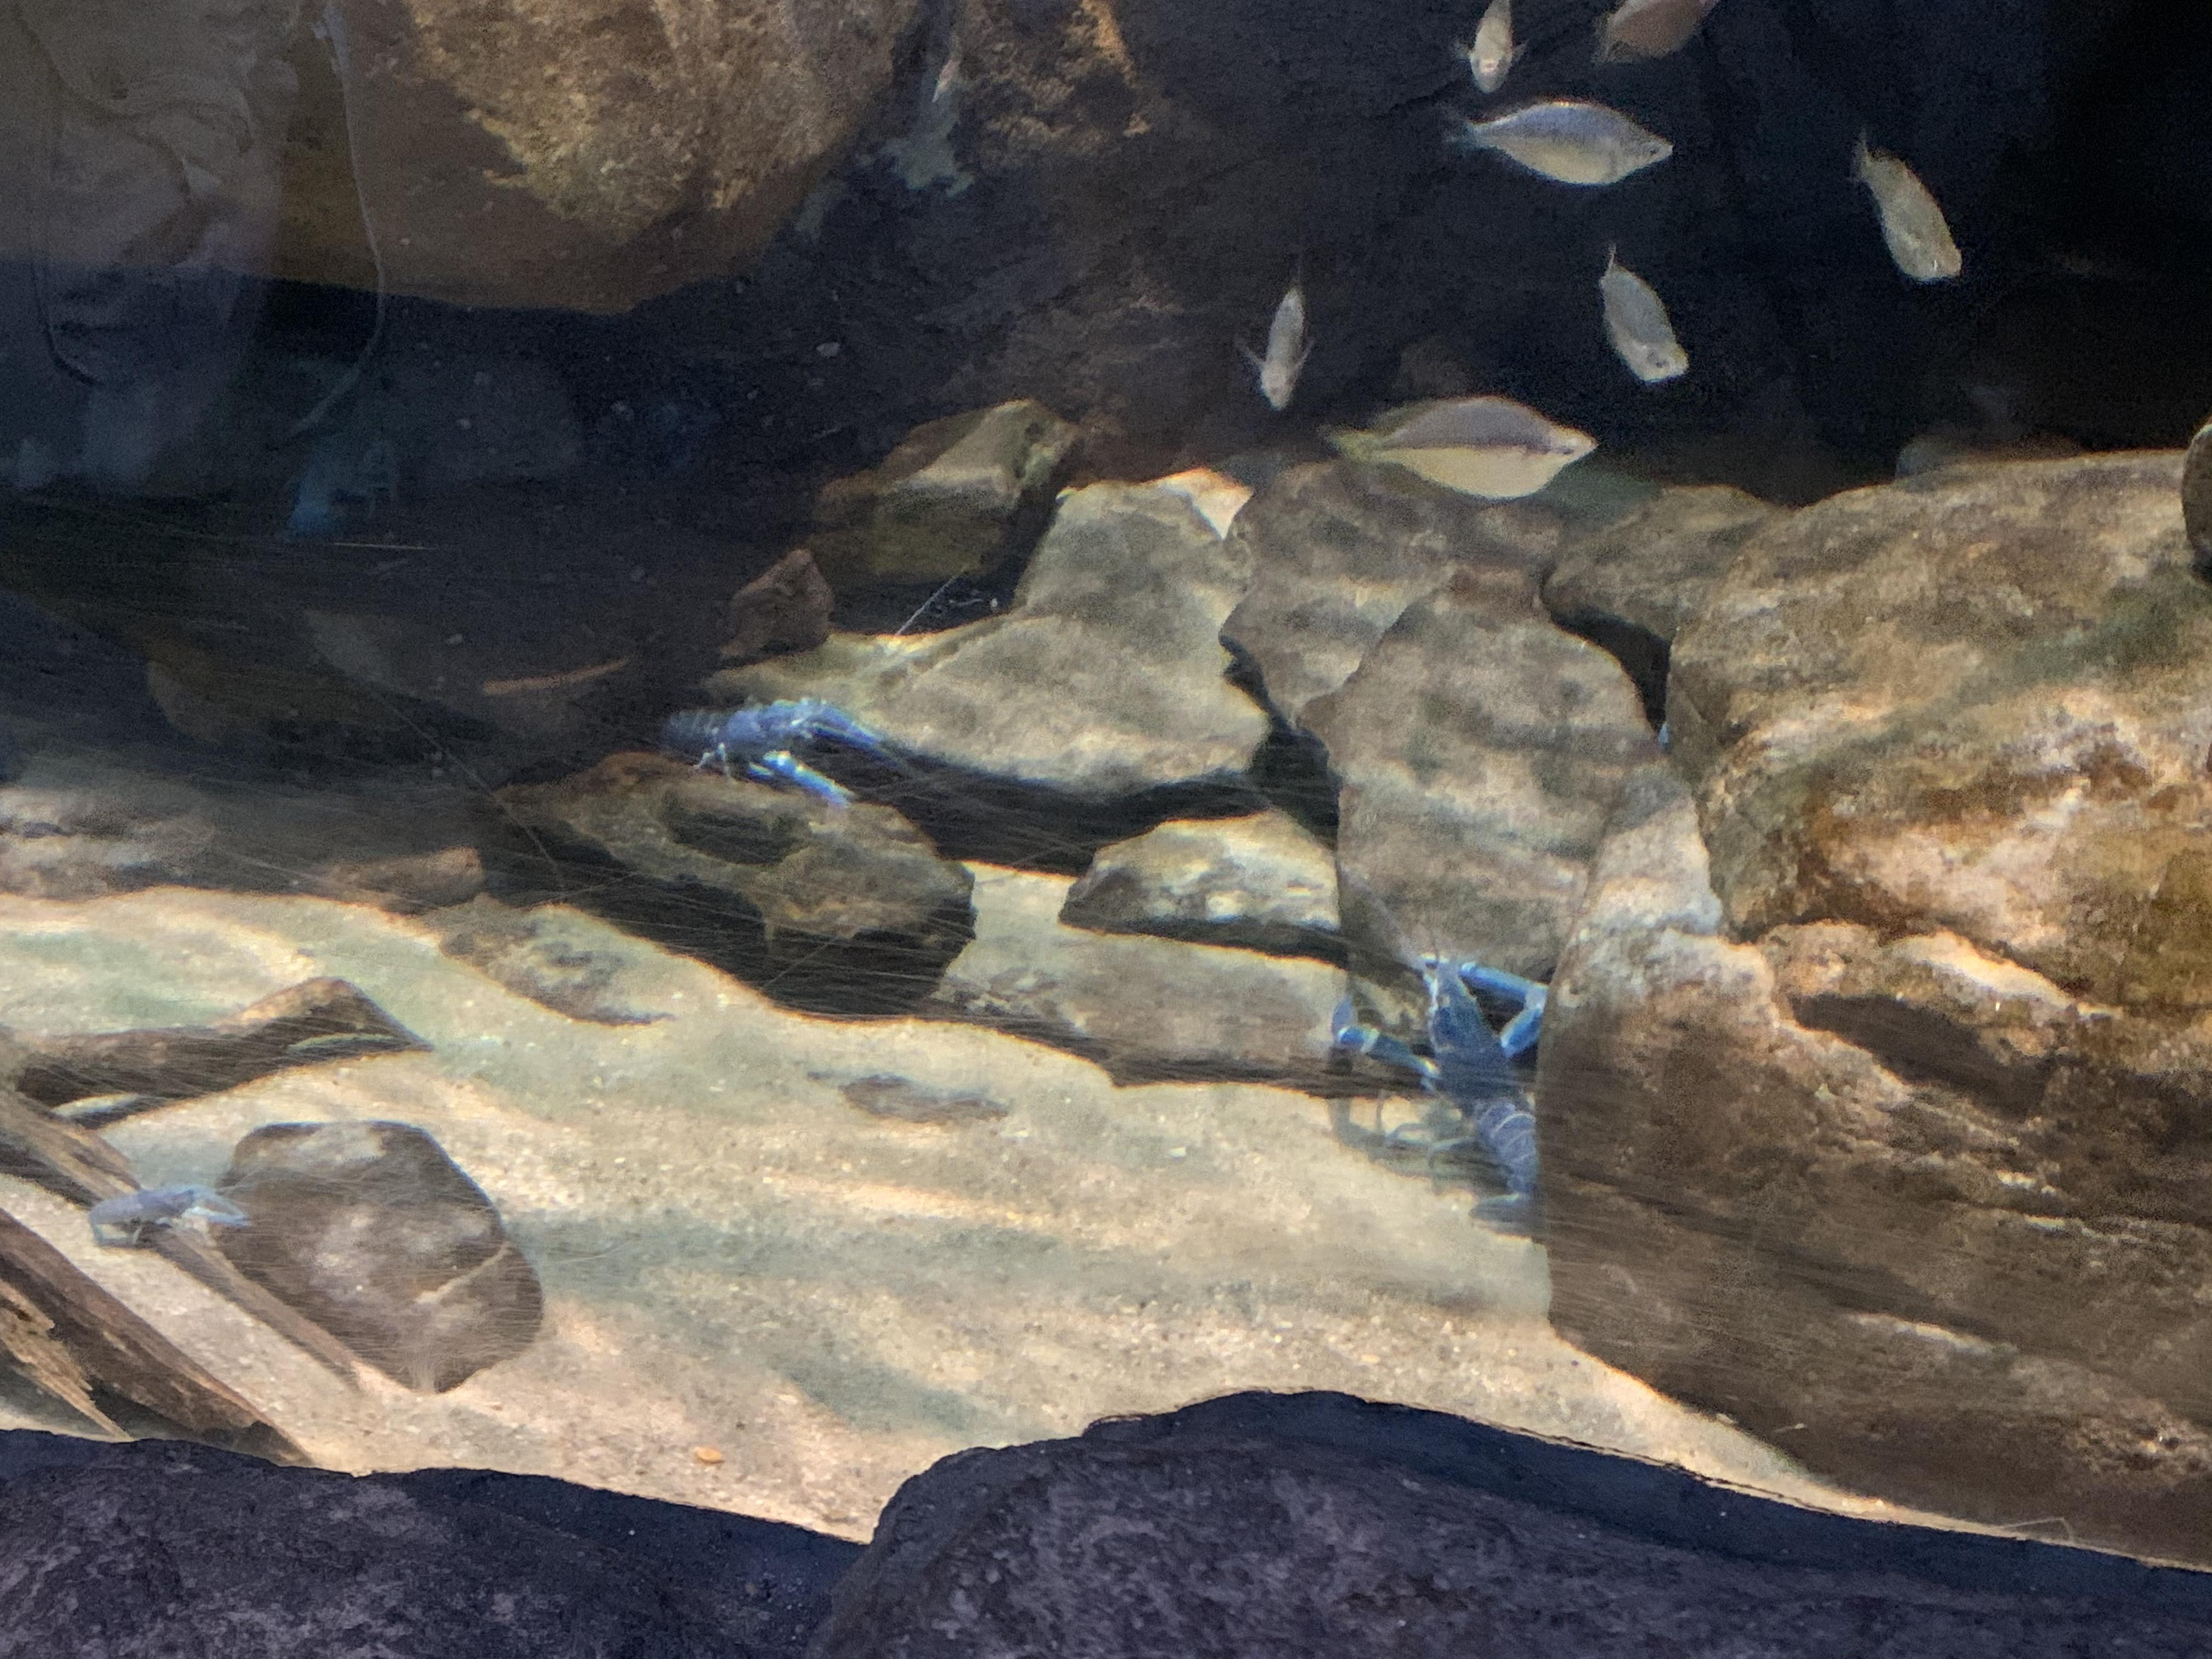fish: (1329, 382, 1601, 509), (1440, 99, 1672, 192), (1850, 124, 1966, 291), (1597, 242, 1698, 390), (1238, 260, 1324, 413), (1588, 0, 1719, 75), (1453, 0, 1536, 99)
